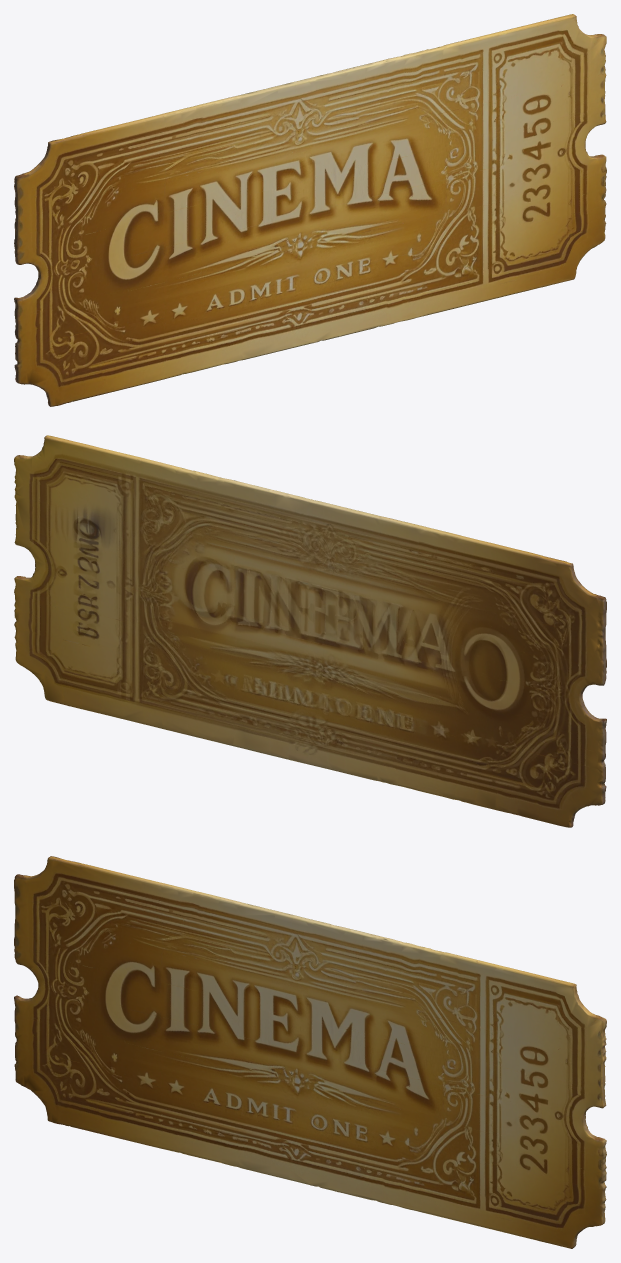
File: cinema-ticket.glb
3 renders of one model, top to bottom at view 1: azimuth 30°, elevation 25°; view 2: azimuth 150°, elevation 25°; view 3: azimuth 330°, elevation 25°, orthographic.
Size of the model in its own units: 2 by 0.8556 by 0.0199.
Materials: 1 (1 with a texture image).
